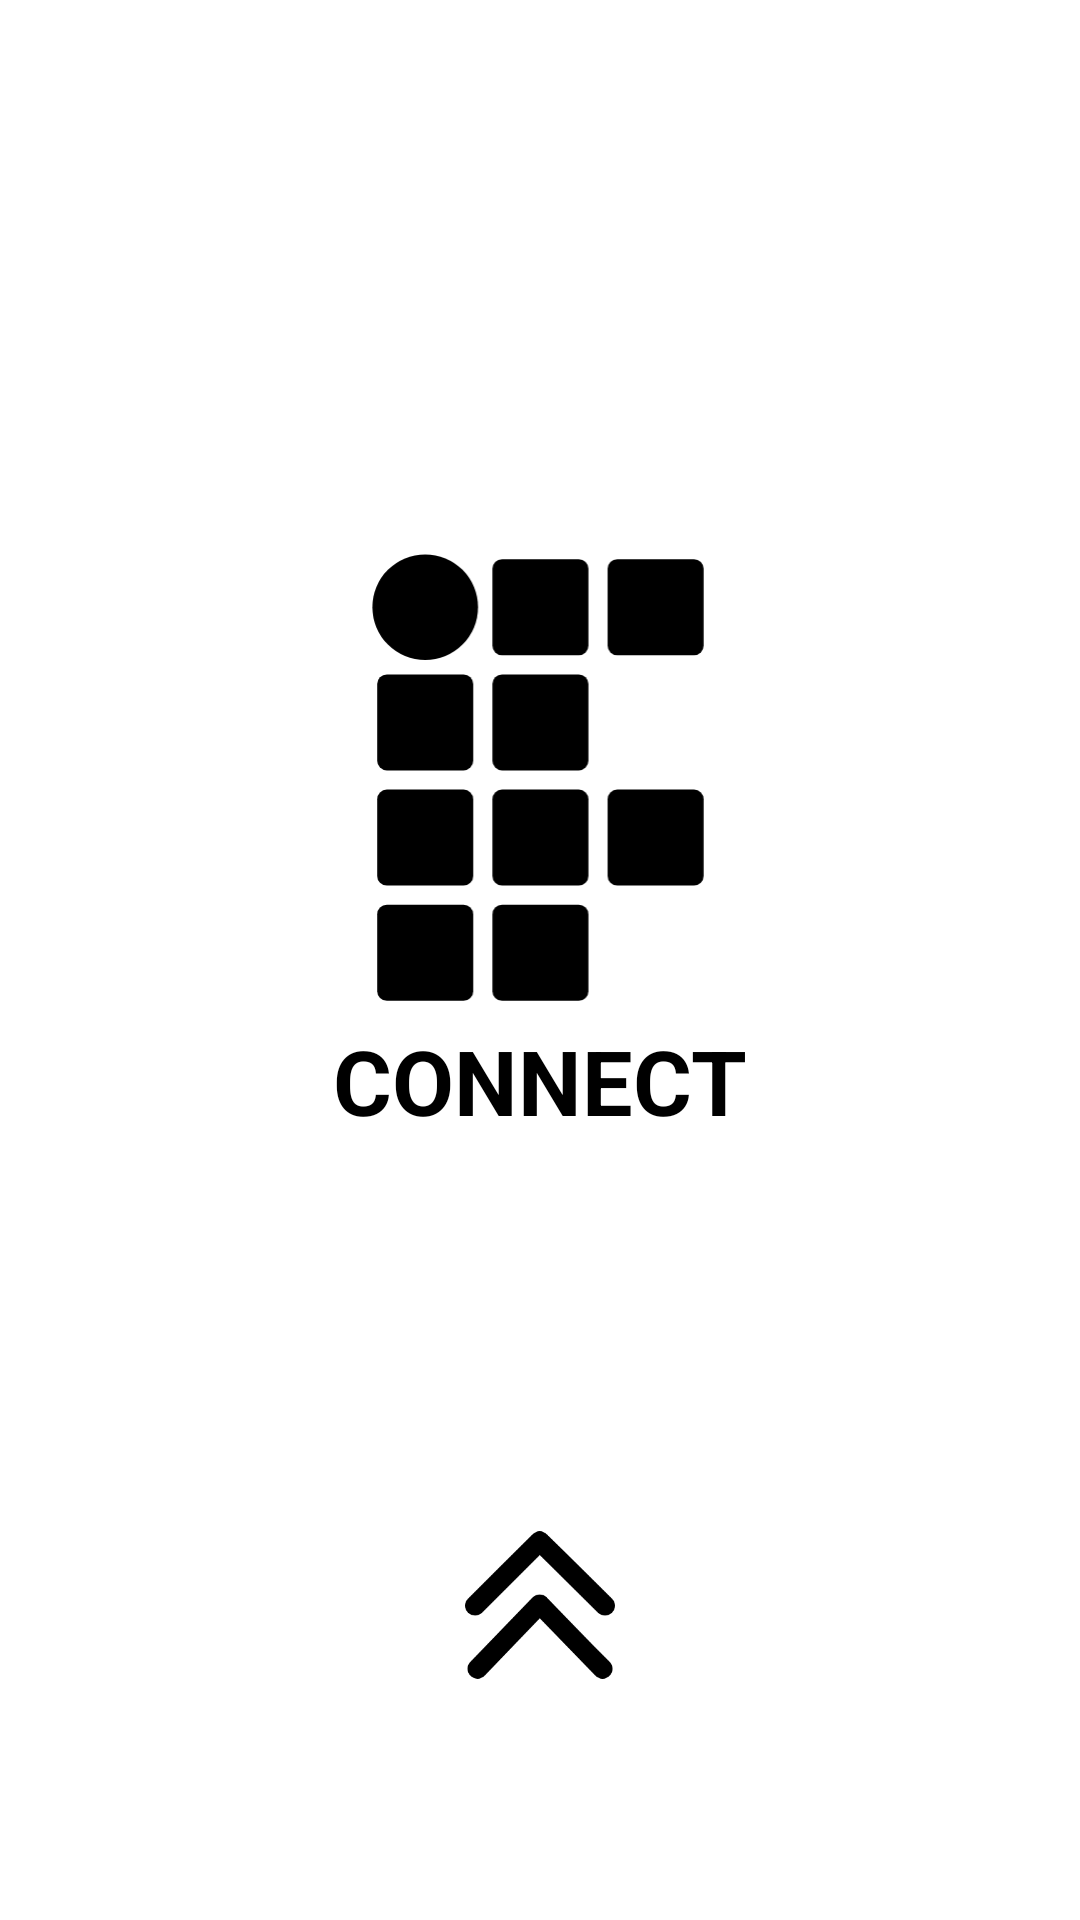

Named icons in this screenshot (1080 x 1920) and their centers, (x=x, y=y):
double arrow top: (x=540, y=1605)
